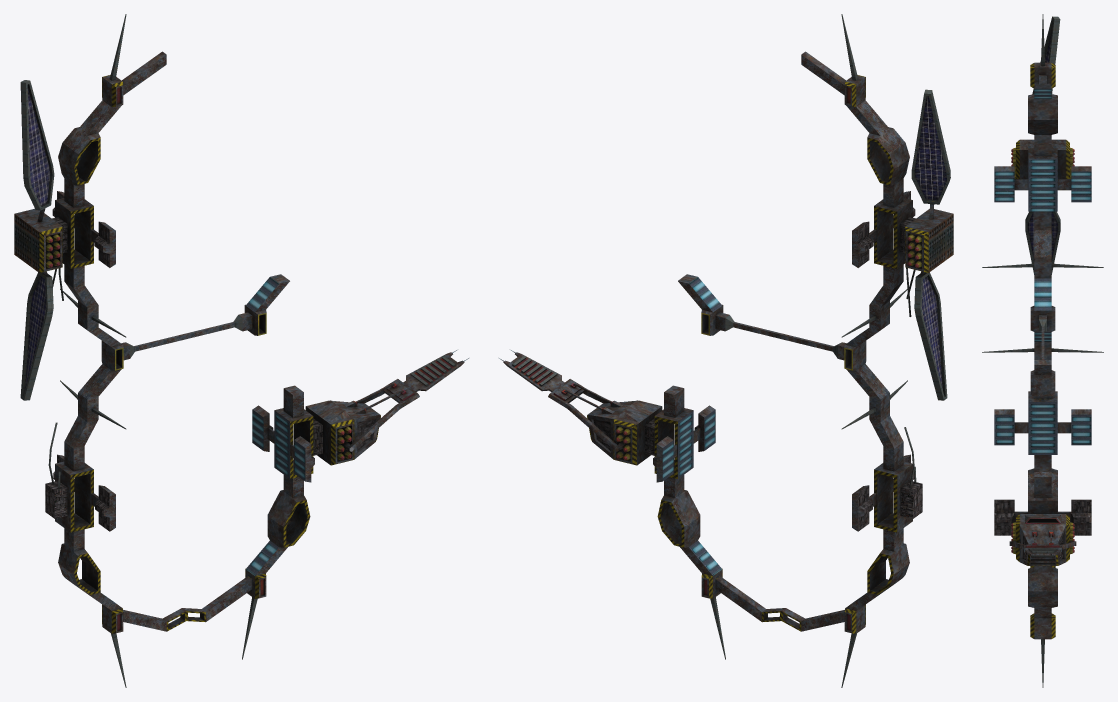
The model's file is JTL-variation7.obj.
The picture shows the model from 3 angles, left to right: view 1: azimuth 30°, elevation 25°; view 2: azimuth 150°, elevation 25°; view 3: azimuth 270°, elevation 25°; orthographic projection. The views are drawn at different scales.
Visible parts, largest first — view 1: Box01; view 2: Box01; view 3: Box01.
Boxes of the visible parts, box(x1,y1,x2,y2) form: Box01: box(14, 14, 468, 687); Box01: box(499, 14, 953, 687); Box01: box(982, 14, 1103, 687).
Size of the model in its own units: 203 by 295 by 52.35.
1 material, 1 textured.
